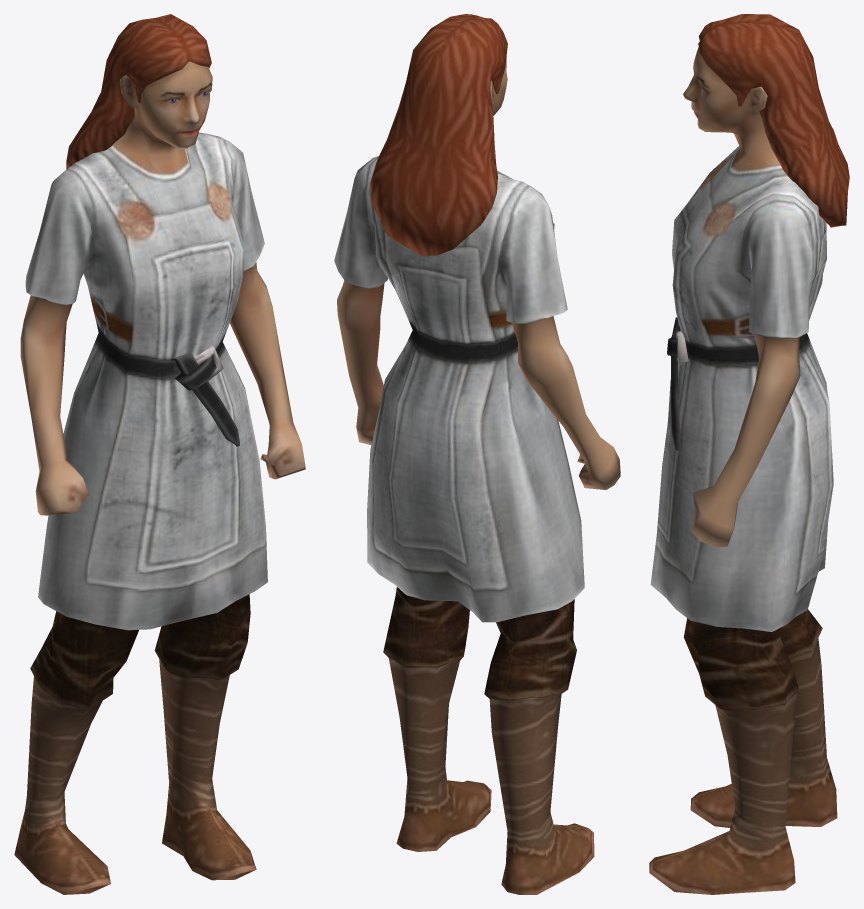
Rendered from body-female-base.glb.
3 renders of one model, left to right at view 1: azimuth 30°, elevation 25°; view 2: azimuth 150°, elevation 25°; view 3: azimuth 270°, elevation 25°, orthographic. The views are drawn at different scales.
Size of the model in its own units: 0.6747 by 2.08 by 0.4456.
1 material, 1 textured.
